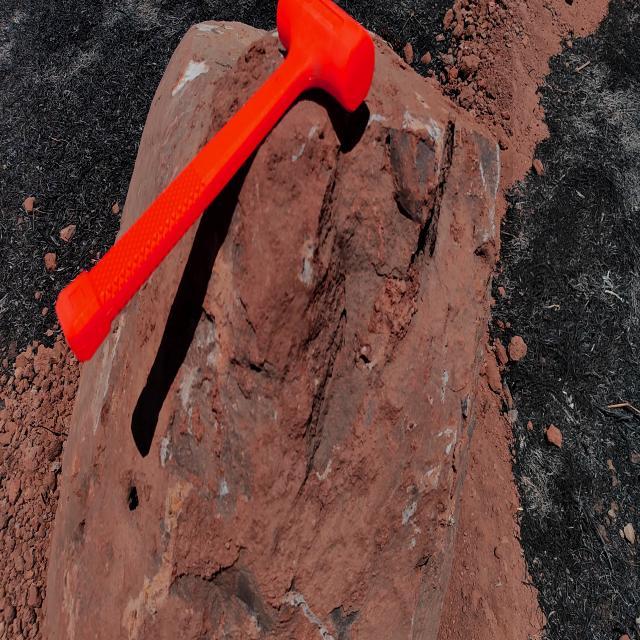Orange_hammer: (55, 0, 375, 364)
rock: (38, 13, 513, 640)
